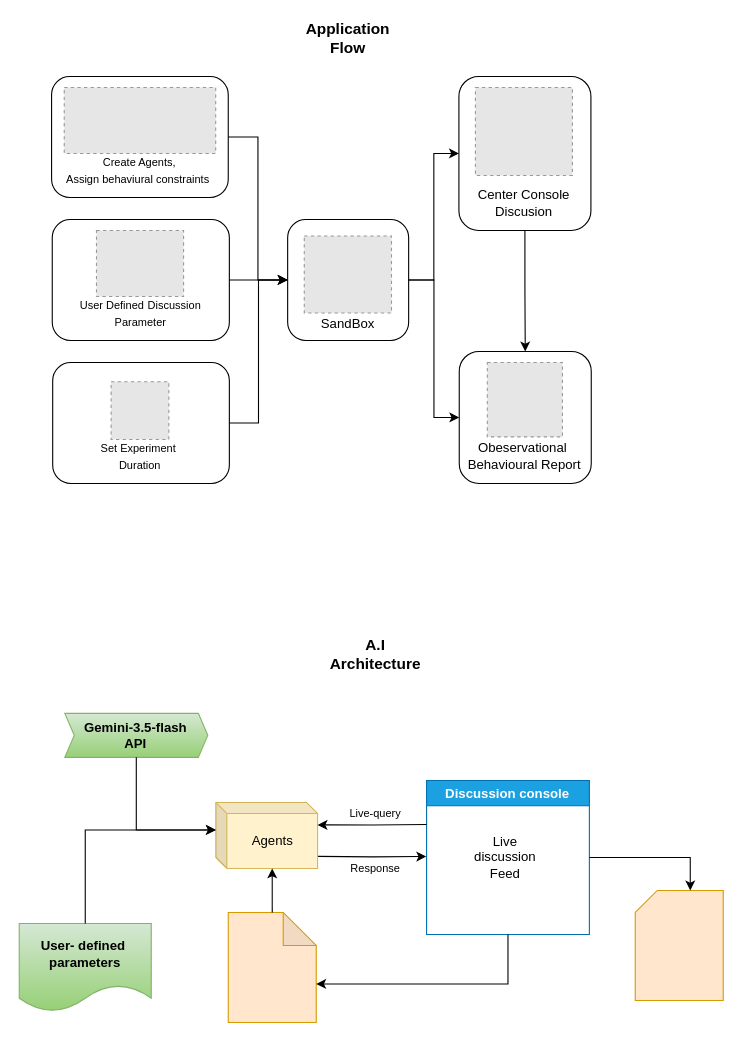
Image size: 743x1042. Some labels were removed from this diagram. Grey dashed boxes stand in for pictures. The shapes that lost their labels are listed below. From the top down, each one's box as (x1, y1, x2, y2) in pixels, then its label:
(634, 889, 723, 1000): Observational behavioural Report
(227, 911, 316, 1022): Independent memory
